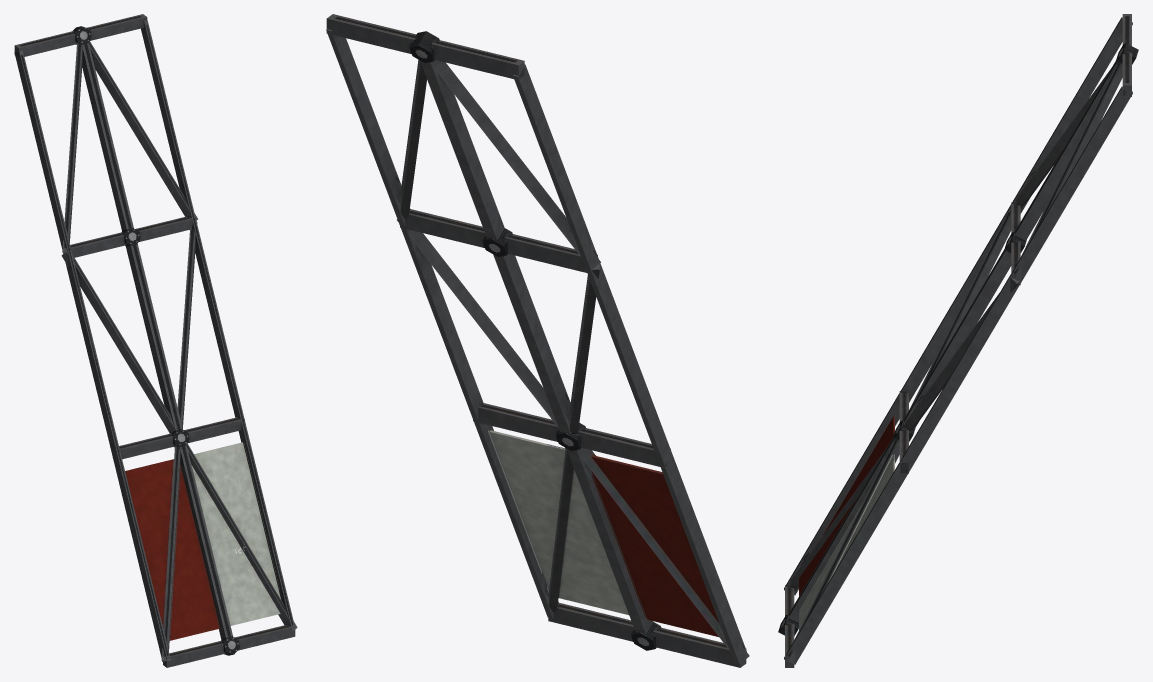
The model's file is dome_roof_slope.glb.
3 renders of one model, left to right at view 1: azimuth 30°, elevation 25°; view 2: azimuth 150°, elevation 25°; view 3: azimuth 270°, elevation 25°, orthographic. The views are drawn at different scales.
Visible parts, largest first — view 1: dome_roof_slope; view 2: dome_roof_slope; view 3: dome_roof_slope.
Boxes of the visible parts, bbox=[...] form: dome_roof_slope: bbox=[14, 14, 297, 667]; dome_roof_slope: bbox=[326, 14, 749, 667]; dome_roof_slope: bbox=[778, 14, 1138, 667].
Bounding box in the file's own units: 4.24 × 15.55 × 8.55.
1 material, 1 textured.
